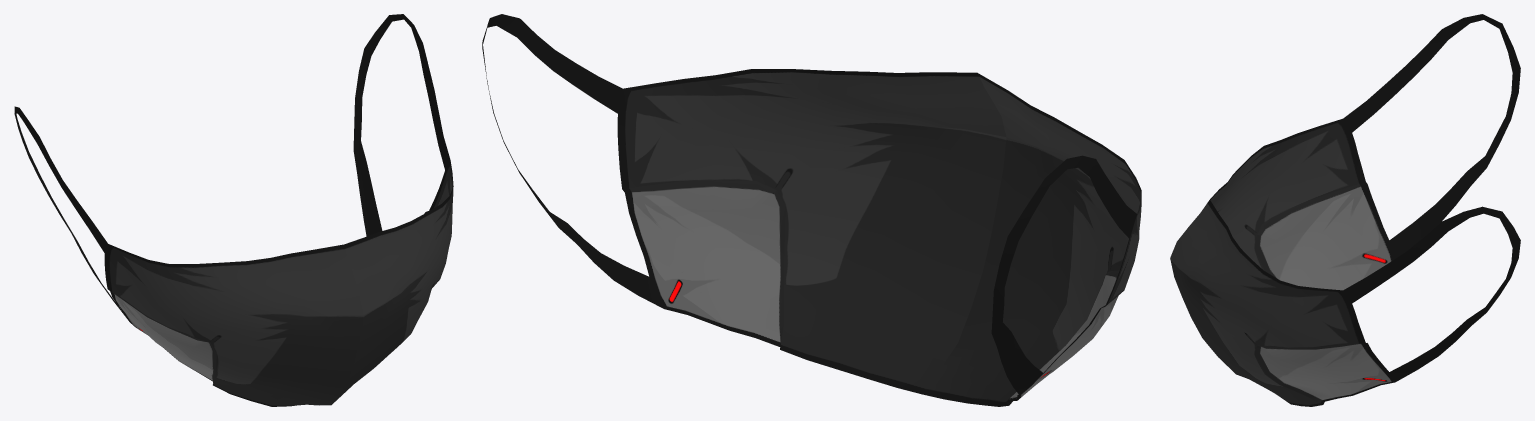
The model's file is KULT_mask-obsidian.glb.
3 views of the same model, side by side, from view 1: azimuth 30°, elevation 25°; view 2: azimuth 150°, elevation 25°; view 3: azimuth 270°, elevation 25° (orthographic). The views are drawn at different scales.
Visible parts, largest first — view 1: Plane; view 2: Plane; view 3: Plane.
Boxes of the visible parts, <box> form: Plane: <box>14,14,453,406</box>; Plane: <box>482,14,1141,406</box>; Plane: <box>1170,14,1520,406</box>.
Size of the model in its own units: 0.1901 by 0.1283 by 0.145.
Materials: 1 (1 with a texture image).
